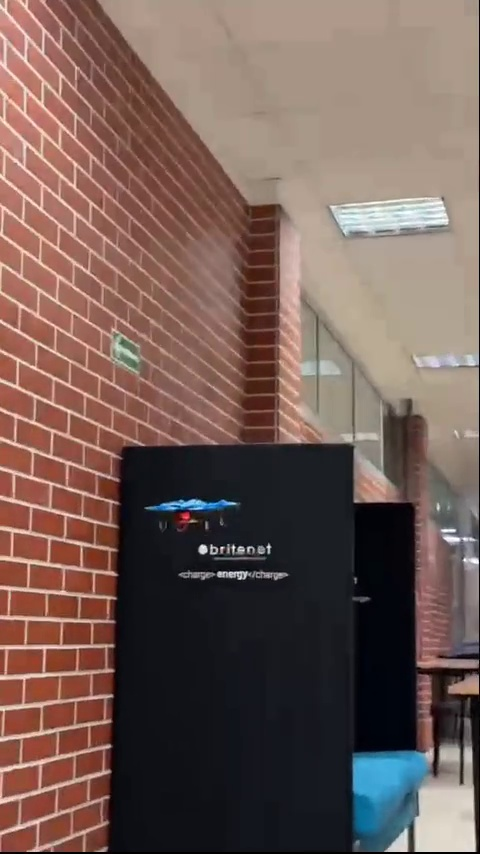drone: (146, 499, 241, 535)
